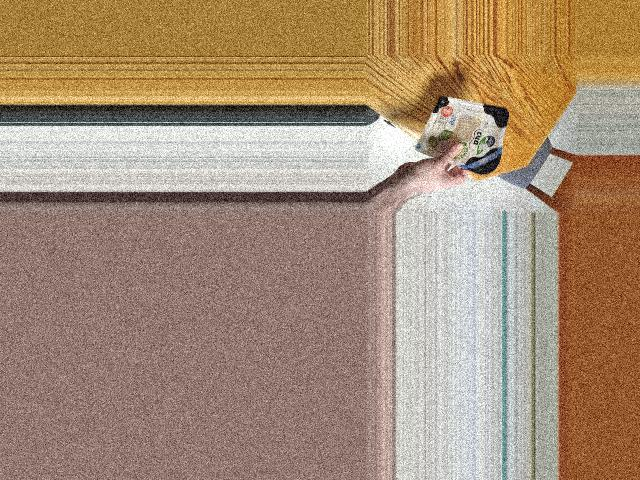cheese: (430, 98, 506, 172)
